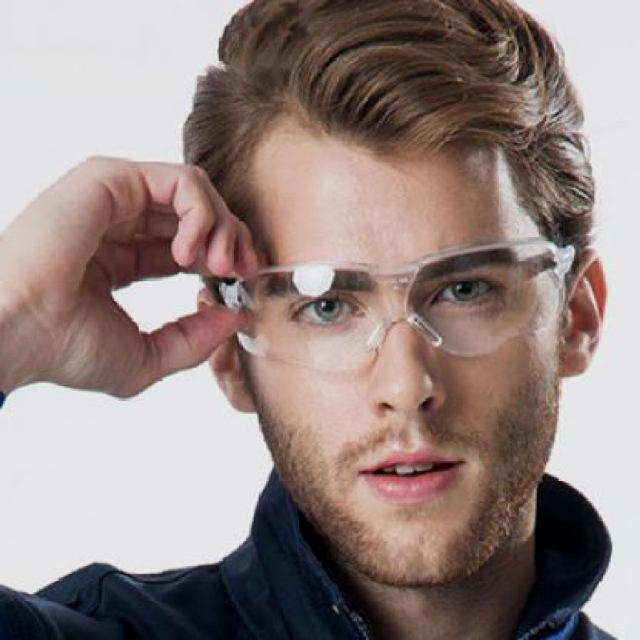face_nomask: (284, 255, 521, 516)
glasses: (210, 230, 581, 376)
hand_noglove: (0, 152, 268, 397)
head_nohelmet: (178, 2, 582, 183)
